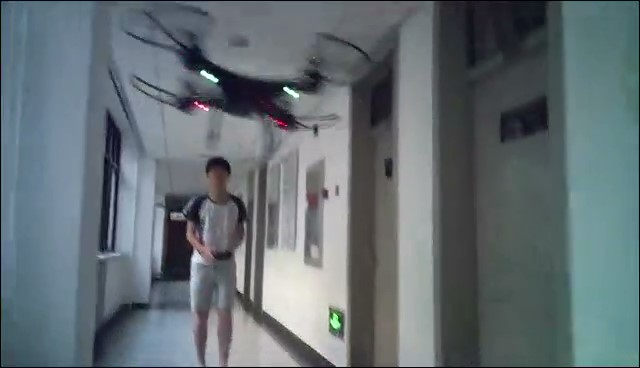drone: (117, 4, 376, 159)
person: (183, 156, 249, 368)
